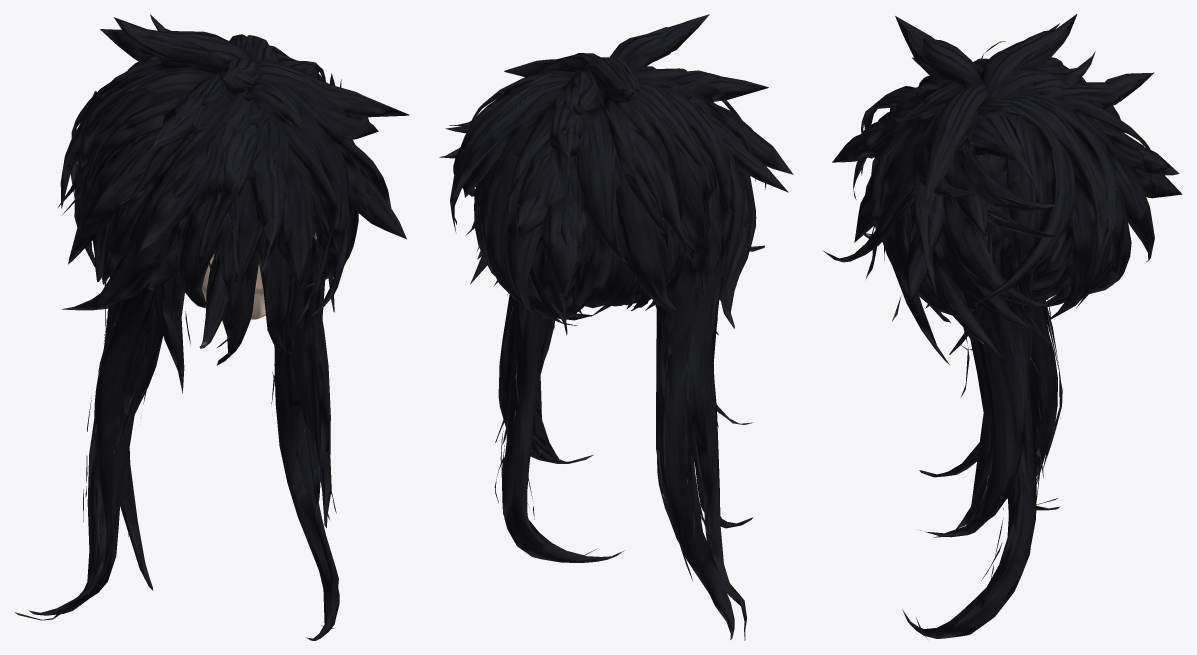
Rendered from hair_02.glb.
3 views of the same model, side by side, from view 1: azimuth 30°, elevation 25°; view 2: azimuth 150°, elevation 25°; view 3: azimuth 270°, elevation 25° (orthographic). The views are drawn at different scales.
Visible parts, largest first — view 1: mesh_node; view 2: mesh_node; view 3: mesh_node.
Part boxes in pixels (x1,y1,x2,y2): mesh_node: [15, 14, 409, 640]; mesh_node: [439, 14, 793, 640]; mesh_node: [822, 14, 1182, 639].
Bounding box in the file's own units: 0.2871 × 0.5 × 0.2889.
Materials: 1 (1 with a texture image).
